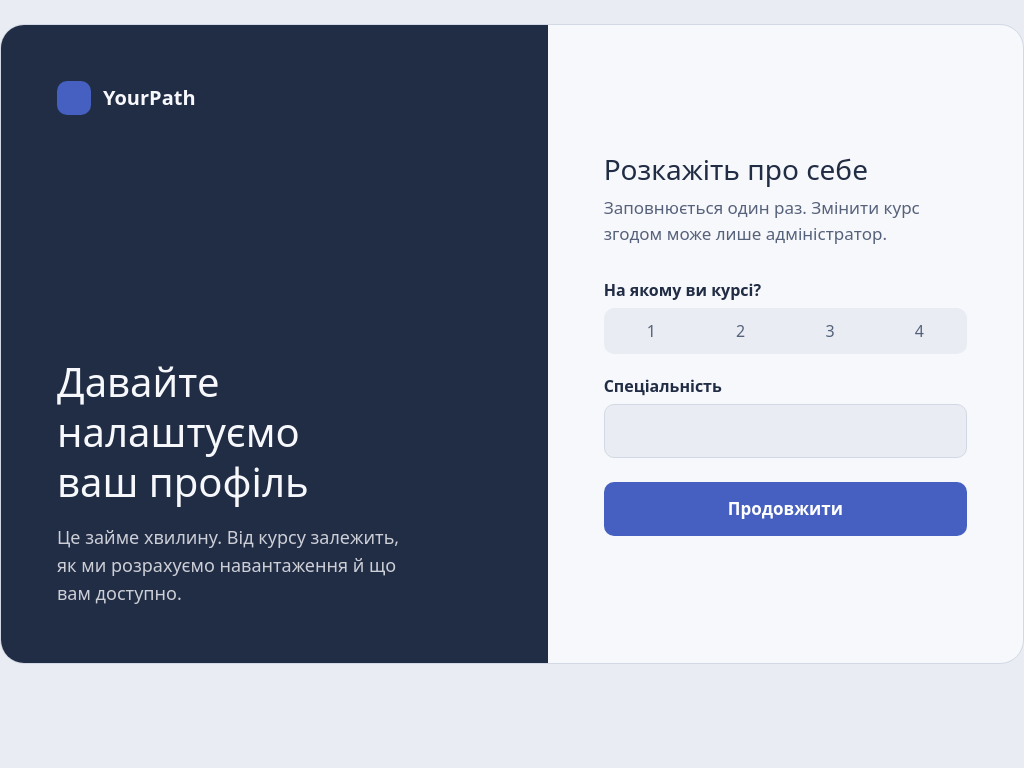
Scenario: OnboardingPage › без курсу показує підказку й не надсилає запит
Type "Інженерія програмного забезпечення" into the field labelled "Спеціальність".
click(785, 431); type("Інженерія програмного забезпечення")  # box [604,404,967,458]
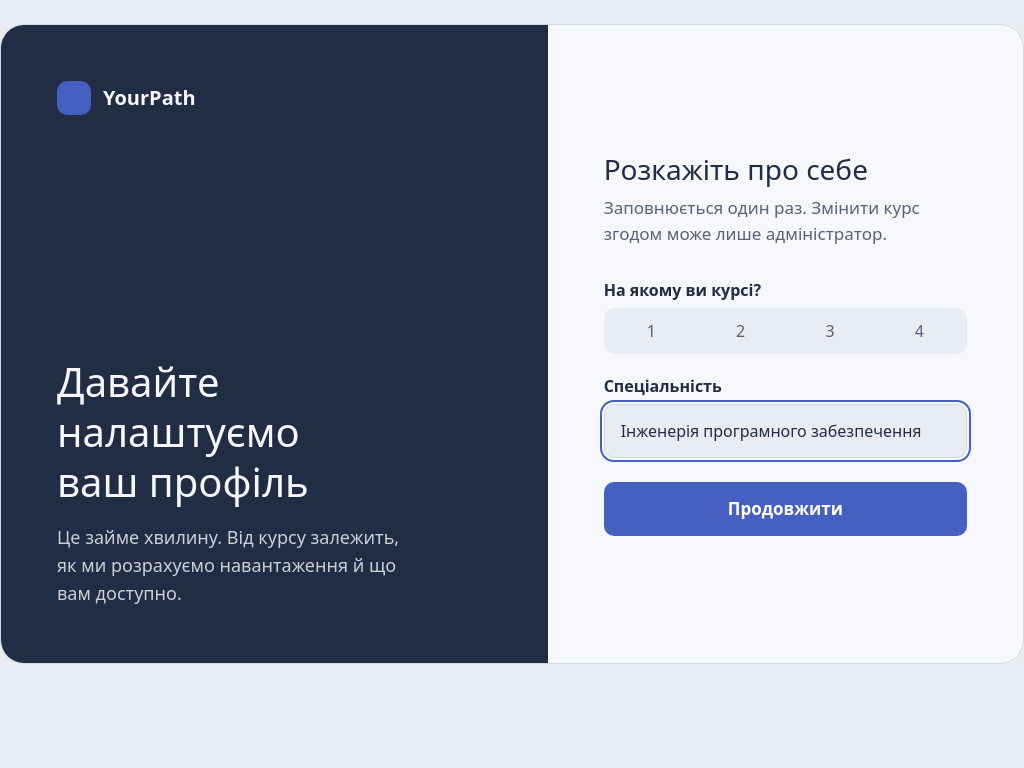
Click the button "Продовжити".
click(785, 509)  # box [604,482,967,536]
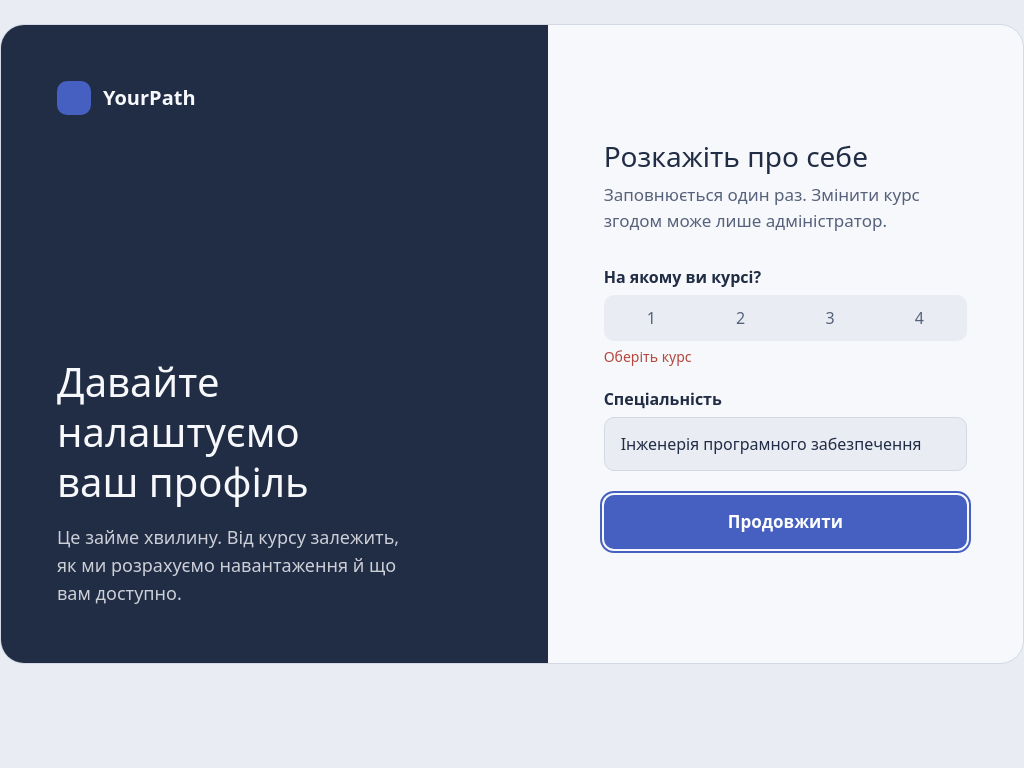
Expected: the text "Оберіть курс" is shown, [604,347,692,366]
